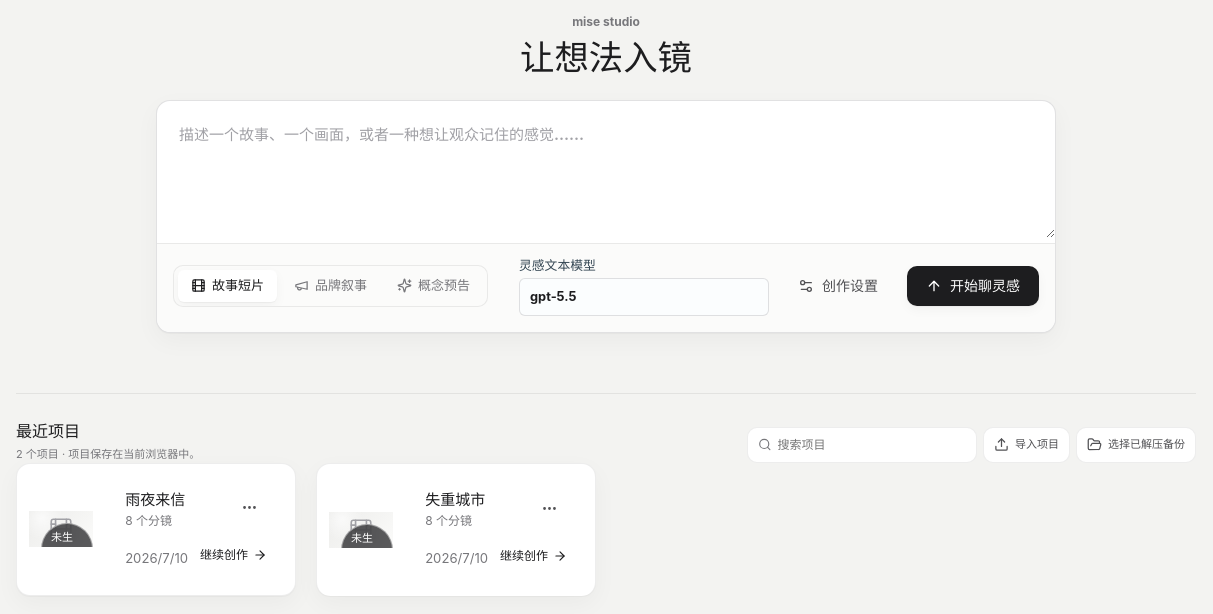
it: ProjectsPage › filters project history without changing the underlying list
expect the heading "雨夜来信" is shown: met, box [125,490,185,509]
In the search field labelled "搜索项目": x=872, y=445 [778,429,966,461], type "失重"
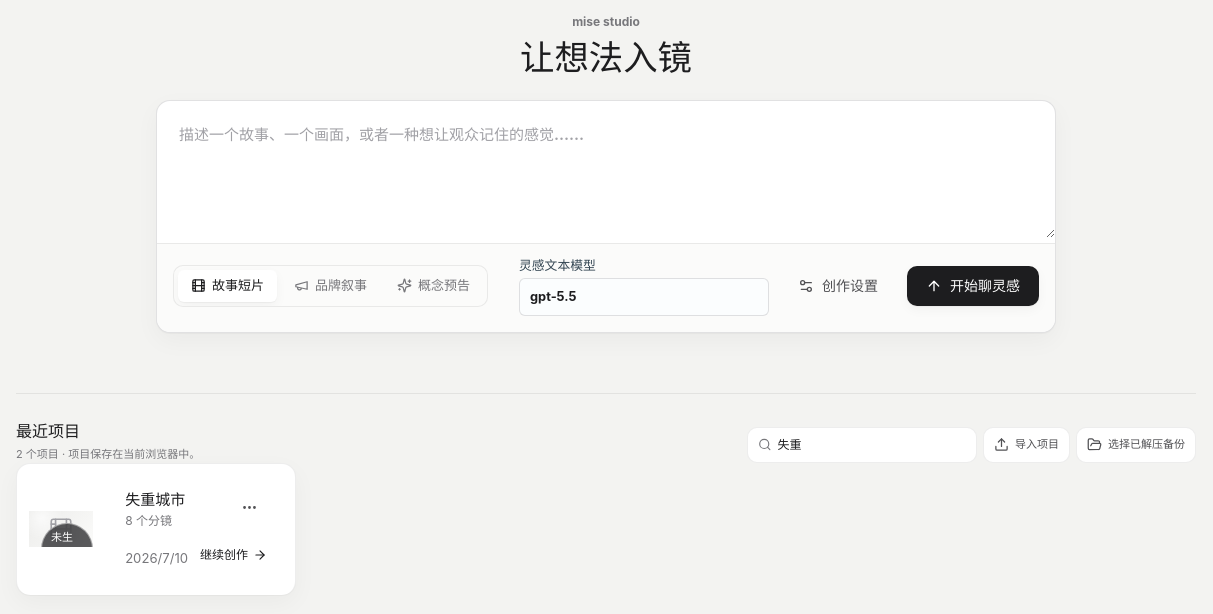
expect the heading "失重城市" is shown: met, box [125,490,185,509]
expect the heading "雨夜来信" is gone: met
